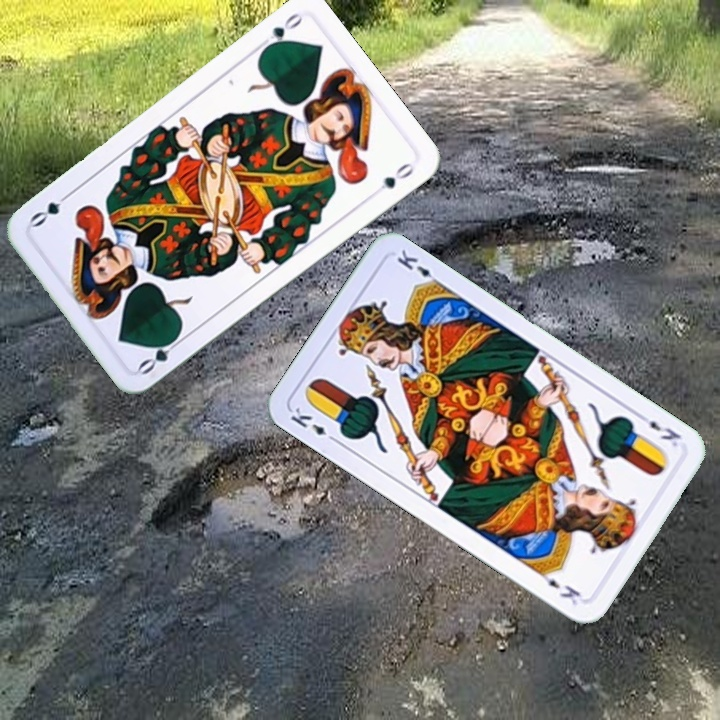EK: (286, 403, 341, 446), (634, 409, 684, 449)
GO: (134, 329, 186, 377), (253, 8, 305, 55)
